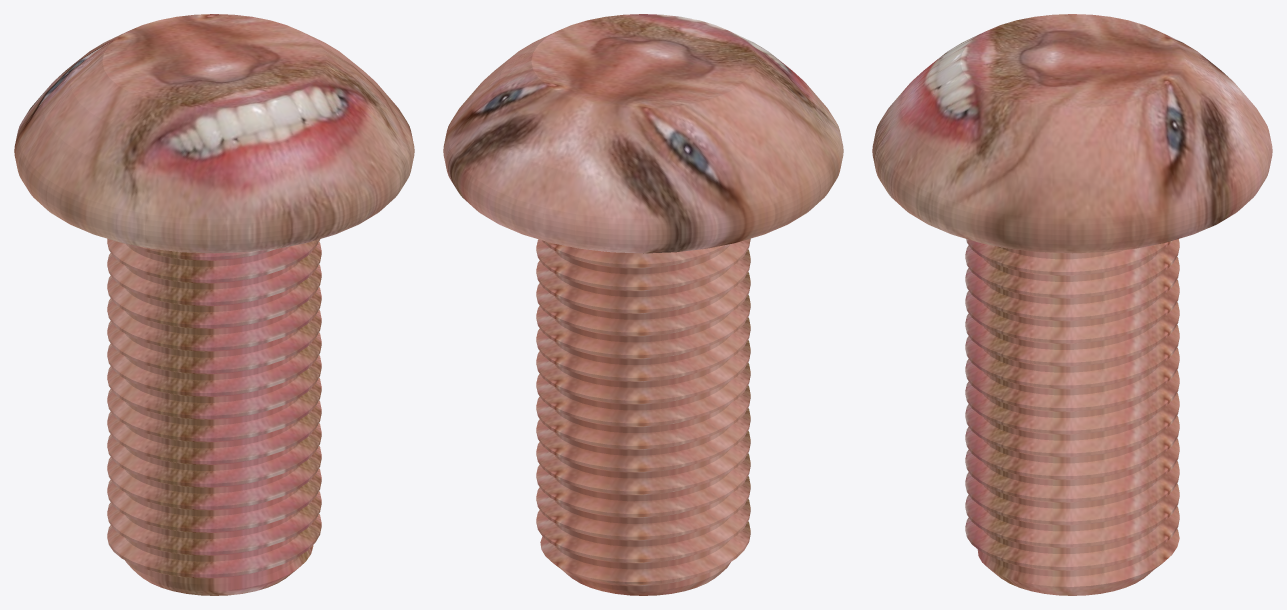
File: kroeger-dome-bolt.glb
The picture shows the model from 3 angles, left to right: view 1: azimuth 30°, elevation 25°; view 2: azimuth 150°, elevation 25°; view 3: azimuth 270°, elevation 25°; orthographic projection.
Parts seen in each view (by area): view 1: Bolt.017; view 2: Bolt.017; view 3: Bolt.017.
Part boxes in pixels (x1,y1,x2,y2): Bolt.017: (14, 14, 414, 595); Bolt.017: (443, 14, 843, 595); Bolt.017: (872, 14, 1272, 595).
Bounding box in the file's own units: 0.0112 × 0.0155 × 0.0112.
Materials: 1 (1 with a texture image).
